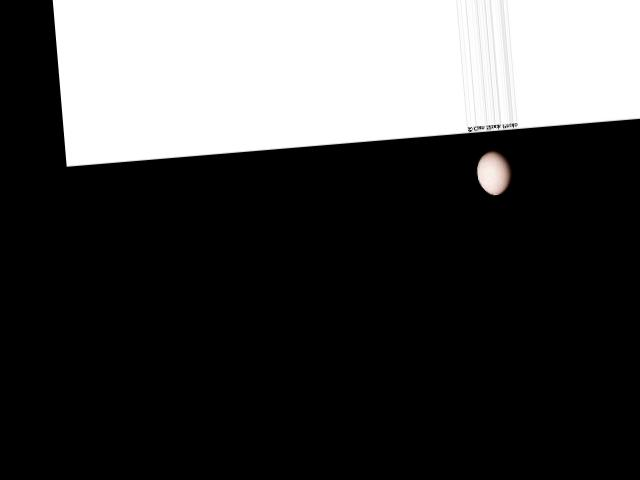egg: (475, 147, 513, 196)
